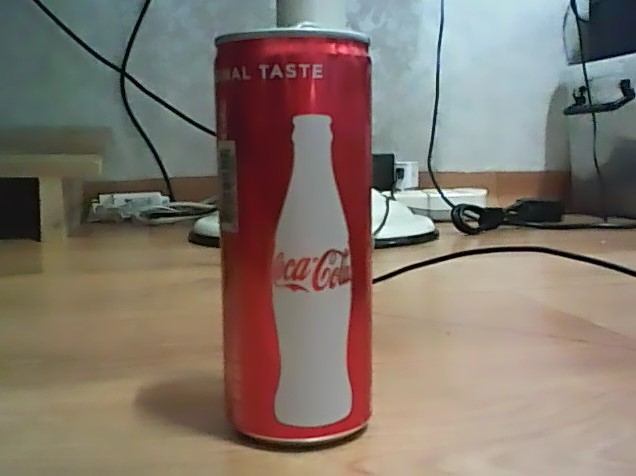Can: (209, 20, 385, 449)
